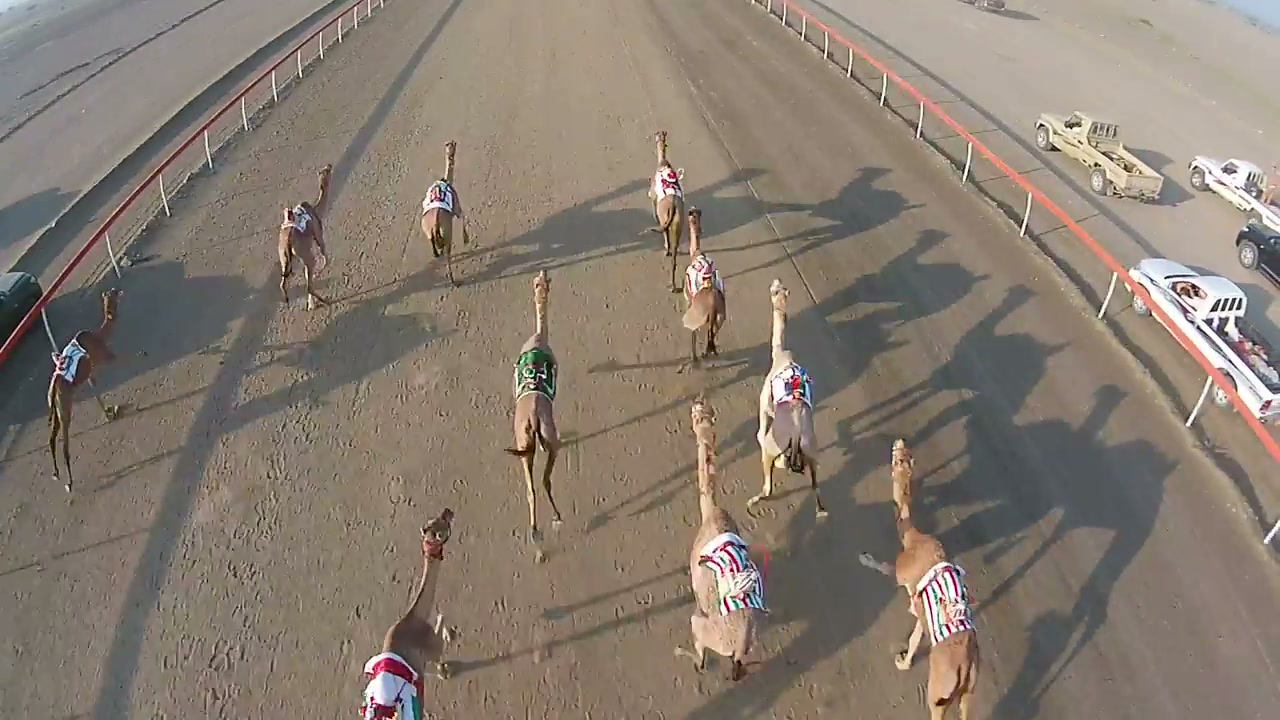animal_foot_print: (189, 270, 353, 711), (349, 284, 475, 682), (593, 289, 720, 675), (460, 471, 568, 715), (4, 471, 102, 688), (635, 628, 771, 719)
